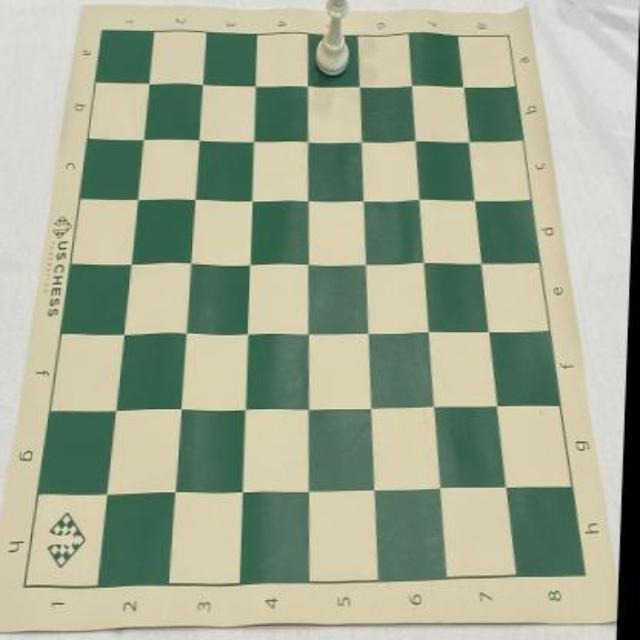white-queen: (316, 0, 352, 78)
